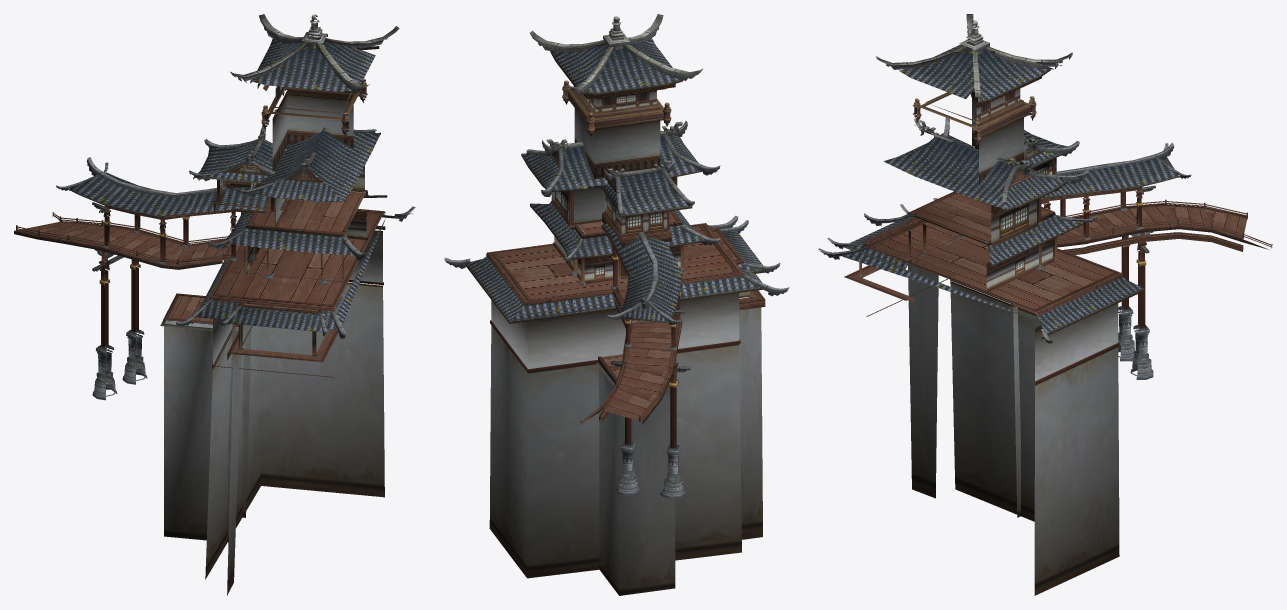
File: S2_Build_XSC057_H1.FBX
3 renders of one model, left to right at view 1: azimuth 30°, elevation 25°; view 2: azimuth 150°, elevation 25°; view 3: azimuth 270°, elevation 25°, orthographic. The views are drawn at different scales.
Visible parts, largest first — view 1: S2_Build_XSC057_H1; view 2: S2_Build_XSC057_H1; view 3: S2_Build_XSC057_H1.
Boxes of the visible parts, bbox=[...] form: S2_Build_XSC057_H1: bbox=[14, 14, 415, 595]; S2_Build_XSC057_H1: bbox=[444, 14, 789, 595]; S2_Build_XSC057_H1: bbox=[818, 14, 1272, 595].
Bounding box in the file's own units: 6383 × 10687 × 8348.
